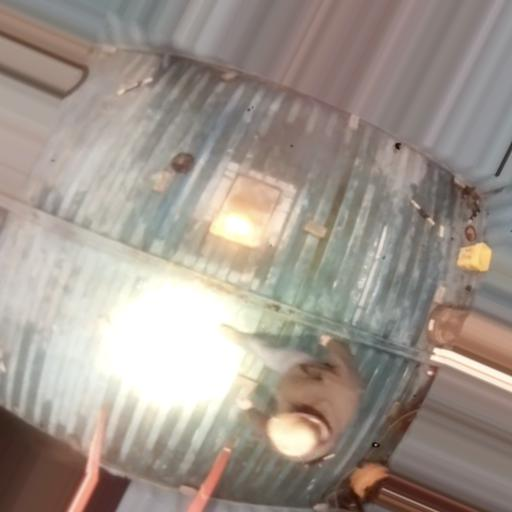Fire: (220, 212, 258, 243)
